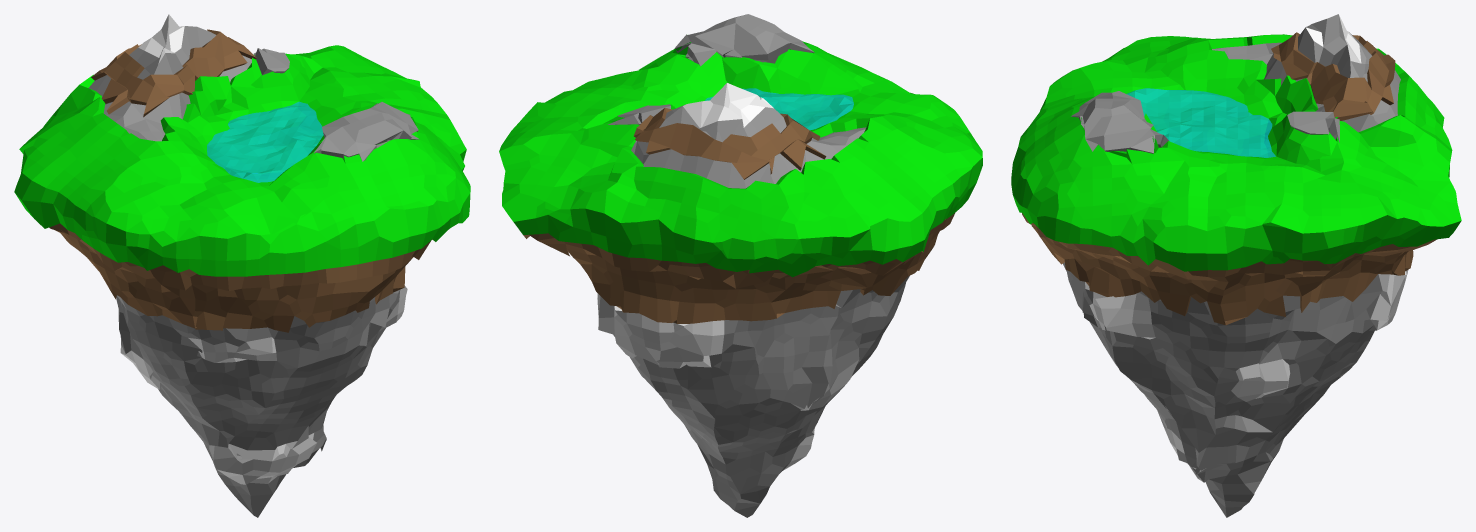
Rendered from island-a.glb.
3 renders of one model, left to right at view 1: azimuth 30°, elevation 25°; view 2: azimuth 150°, elevation 25°; view 3: azimuth 270°, elevation 25°, orthographic. The views are drawn at different scales.
Visible parts, largest first — view 1: Plane; view 2: Plane; view 3: Plane.
Boxes of the visible parts, left/top/right/bottom form: Plane: left=14, top=14, right=470, bottom=517; Plane: left=499, top=14, right=982, bottom=517; Plane: left=1011, top=14, right=1461, bottom=517.
Size of the model in its own units: 9.31 by 10.74 by 9.02.
